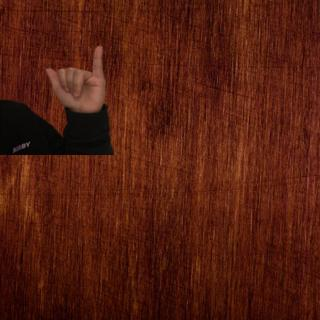HAVE: (39, 41, 109, 115)
